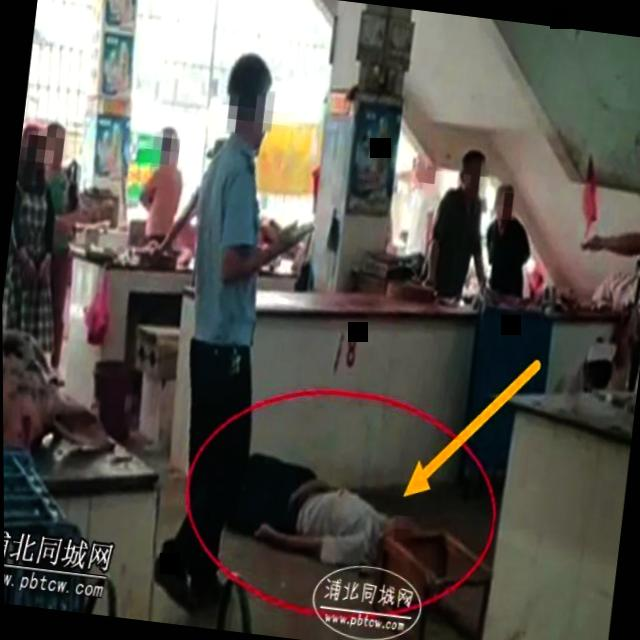Fall-Detected: (188, 429, 419, 590)
